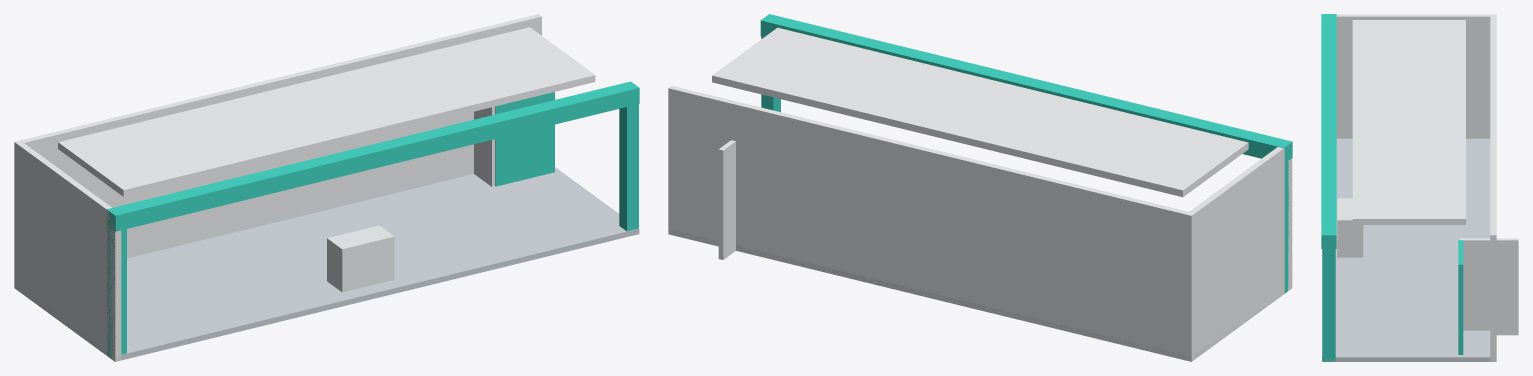
The picture shows the model from 3 angles, left to right: view 1: azimuth 30°, elevation 25°; view 2: azimuth 150°, elevation 25°; view 3: azimuth 270°, elevation 25°; orthographic projection. The views are drawn at different scales.
Parts seen in each view (by area): view 1: Exhibition Booth Concept; view 2: Exhibition Booth Concept; view 3: Exhibition Booth Concept.
Part boxes in pixels (bbox=[...]): Exhibition Booth Concept: bbox=[14, 14, 639, 361]; Exhibition Booth Concept: bbox=[668, 14, 1292, 361]; Exhibition Booth Concept: bbox=[1321, 14, 1518, 361].
Bounding box in the file's own units: 12 × 3.34 × 4.52.
